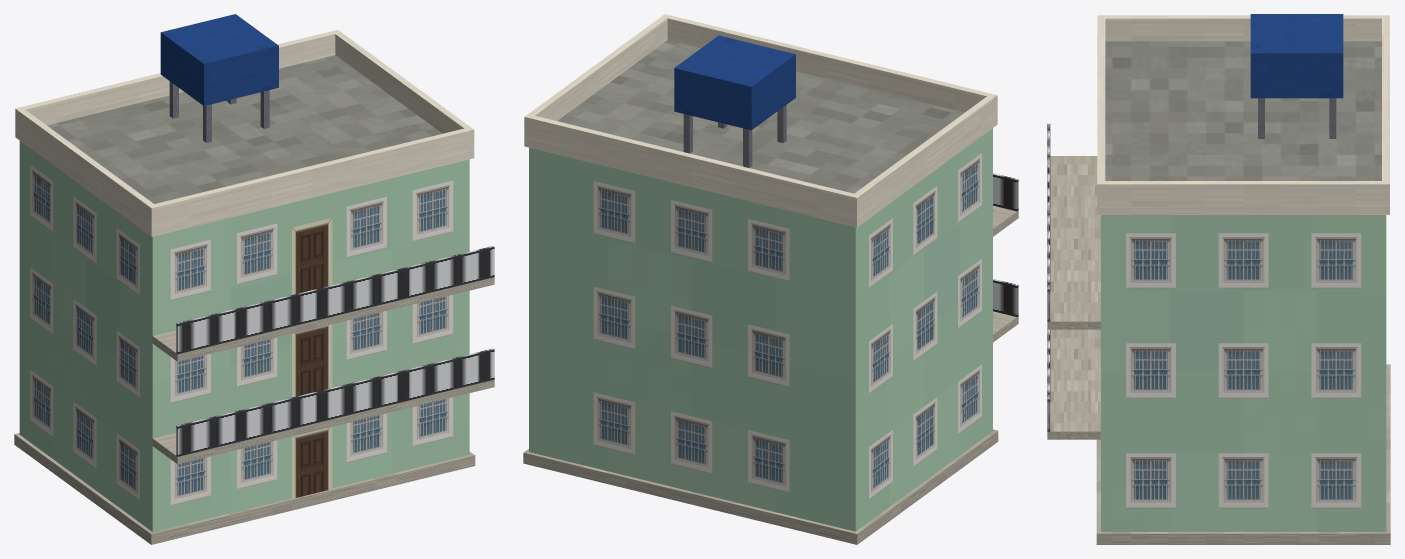
File: flats-mint-far.glb
3 renders of one model, left to right at view 1: azimuth 30°, elevation 25°; view 2: azimuth 150°, elevation 25°; view 3: azimuth 270°, elevation 25°, orthographic. The views are drawn at different scales.
Parts seen in each view (by area): view 1: flats-mint; view 2: flats-mint; view 3: flats-mint.
Part boxes in pixels (<box>): flats-mint: <box>14,14,494,544</box>; flats-mint: <box>523,14,1018,544</box>; flats-mint: <box>1047,14,1390,544</box>.
Bounding box in the file's own units: 11.24 × 13.2 × 9.62.
Materials: 1 (1 with a texture image).
